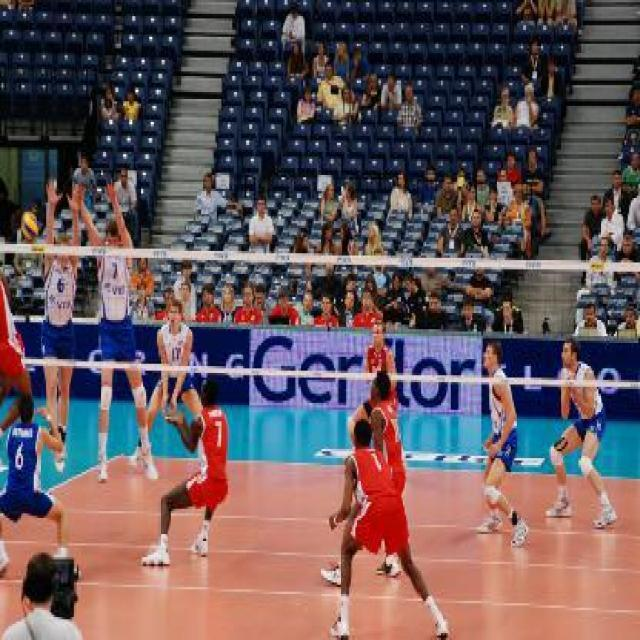volleyball: (20, 211, 38, 242)
